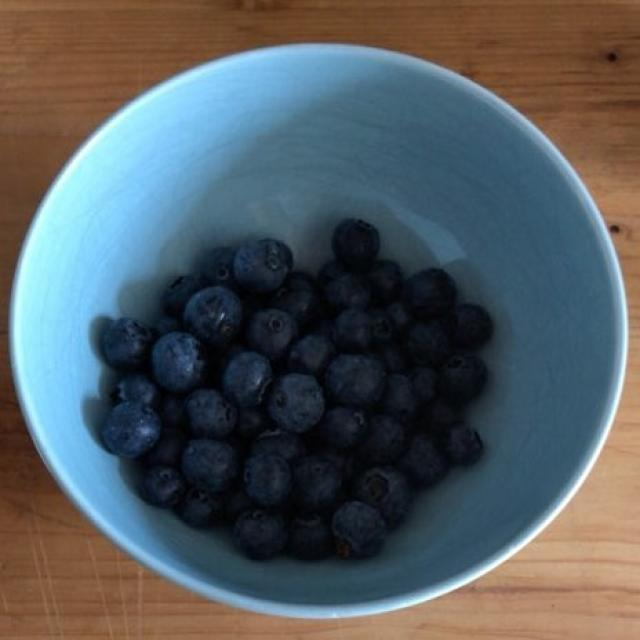blueberries: (100, 227, 488, 557)
